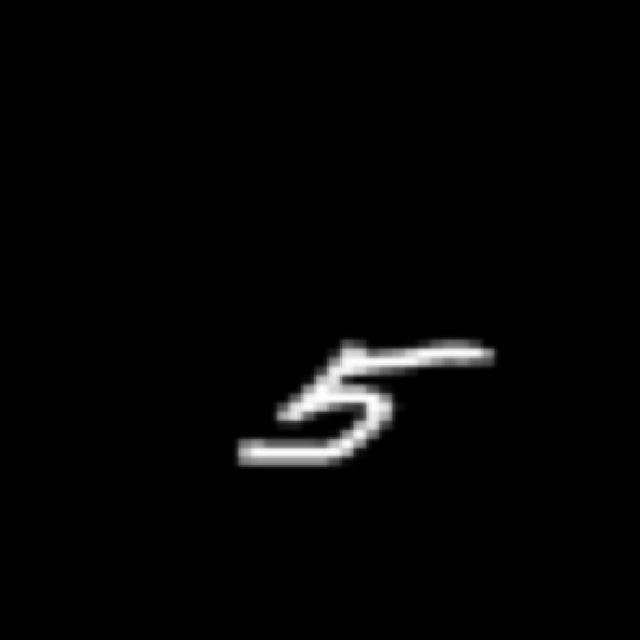five -5-: (228, 336, 504, 478)
